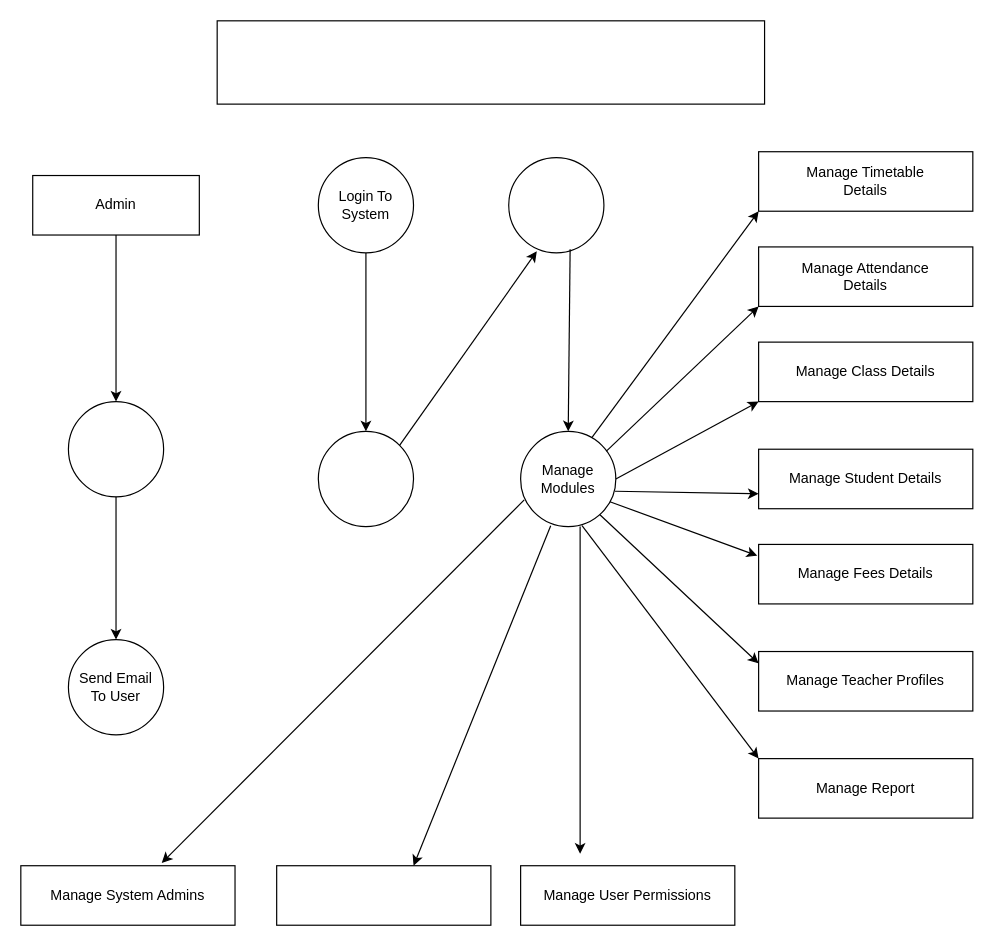
Some shapes in this 994 by 946 pixel diagram are drawn without their labels. The shapes that lost their labels are listed below. From the top down, each one's centre as x and y in pixels, then its label:
the point at 490,62: STUDENT INFORMATION SYSTEM
the point at 556,204: Check Role for Access
the point at 115,448: Forgot Password
the point at 365,478: Check Credentials
the point at 383,895: Manage Roles For Users
